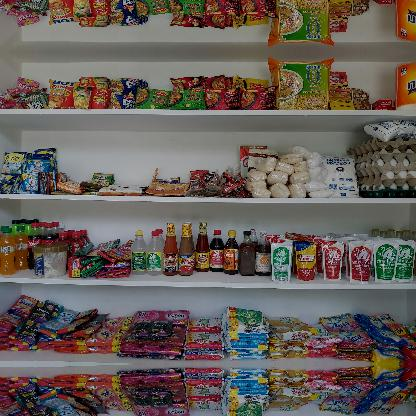Lady-s-Choice: (32, 243, 68, 277)
